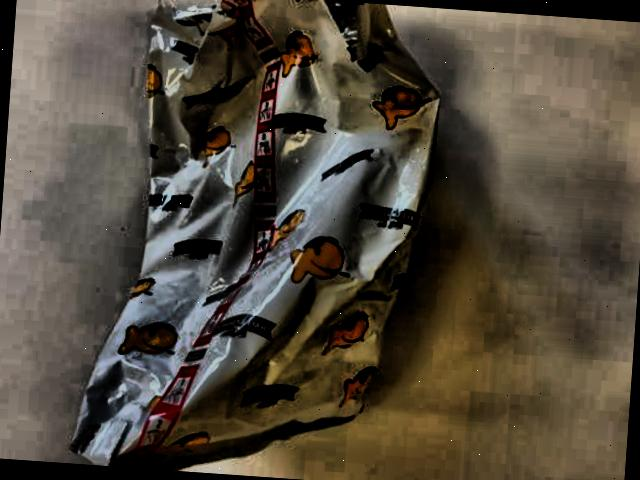Plastic: (24, 0, 469, 480)
